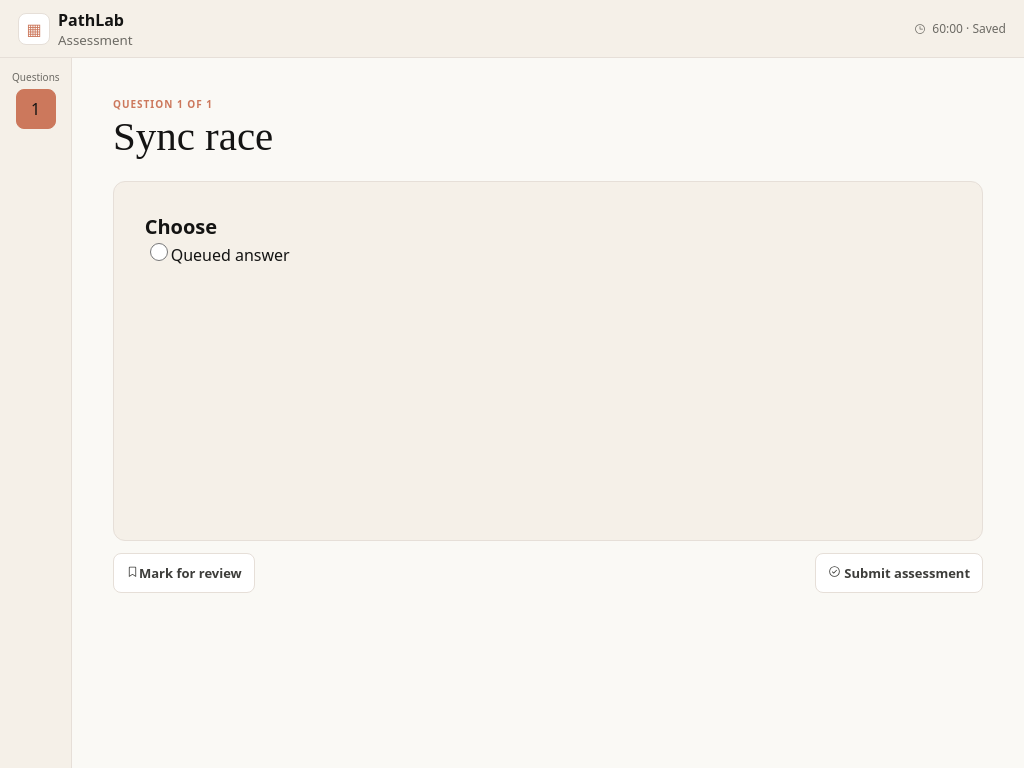
Test: does not acknowledge a new answer from an older empty sync (offline=true)
Step 1. Click the radio button labelled "Queued answer" → x=159, y=252, box [150,243,168,261]
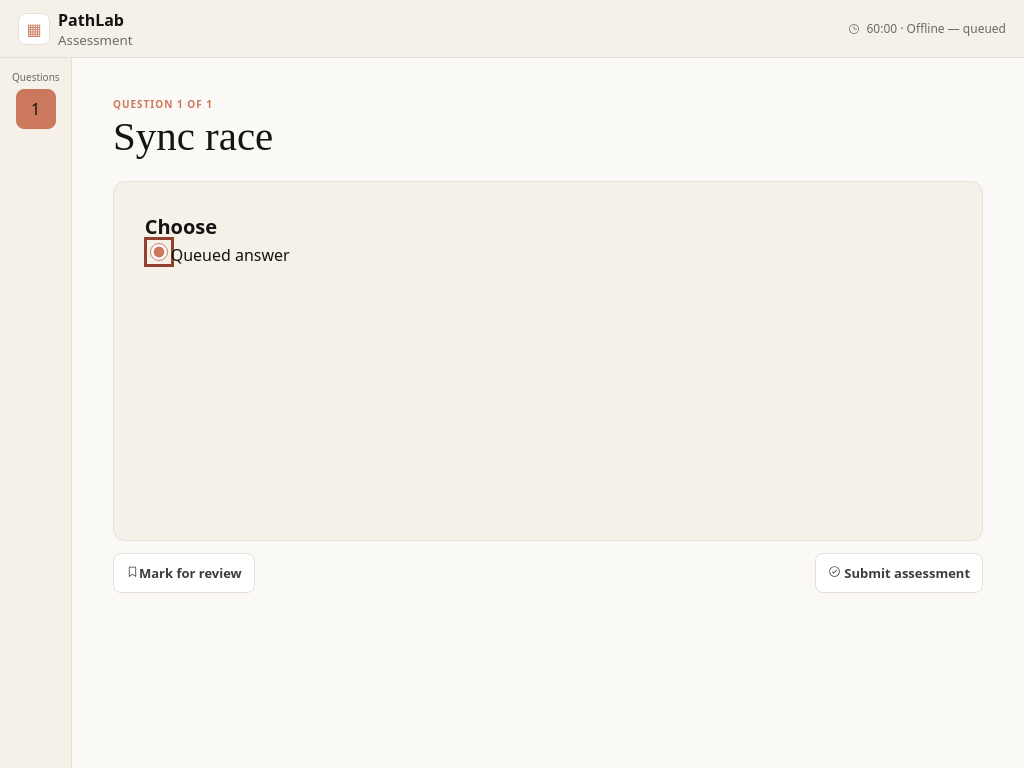
Check: the text "60:00 · Offline — queued" is shown, box [866,20,1006,37]
